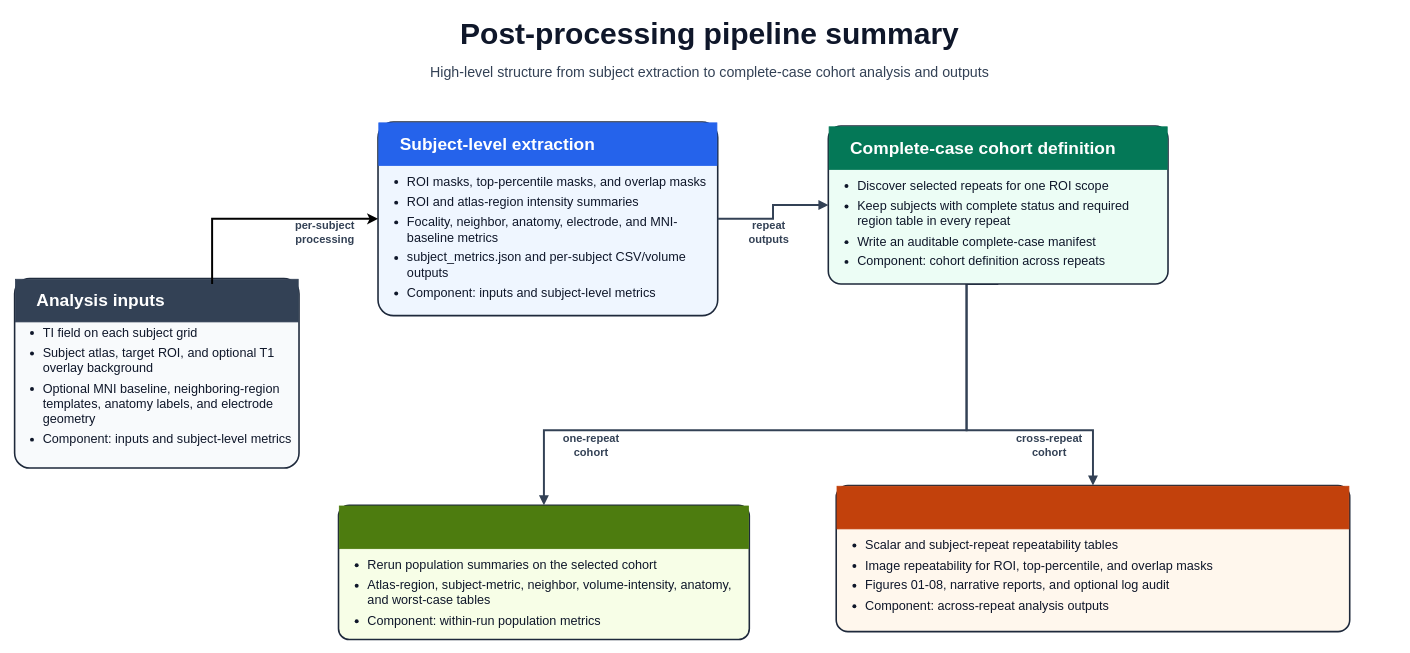
This 1410x653 diagram has some shape labels left out. Here are the shapes that lost their labels. From the top down, the centre of each, then its label:
pixel 544 527: Within-run population branch
pixel 1092 507: Across-repeat repeatability branch
